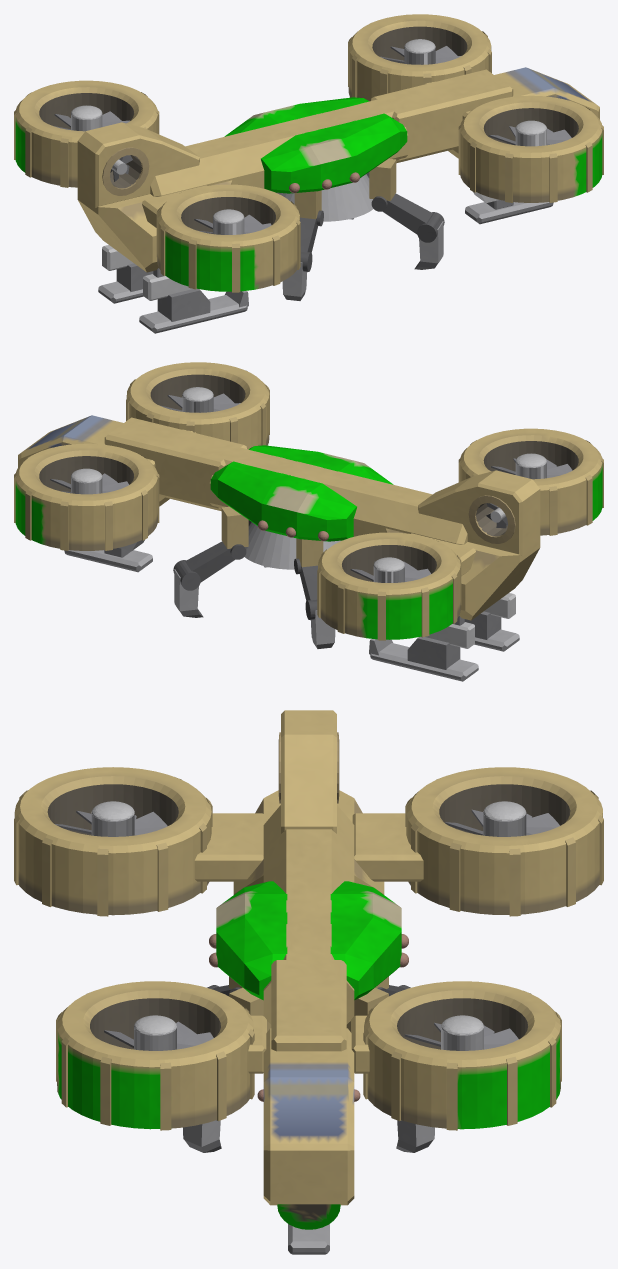
The model's file is carryall.glb.
The picture shows the model from 3 angles, top to bottom: view 1: azimuth 30°, elevation 25°; view 2: azimuth 150°, elevation 25°; view 3: azimuth 270°, elevation 25°; orthographic projection. The views are drawn at different scales.
Visible parts, largest first — view 1: pod, spine, spine_front, tail_block, cab, hoist_bell, pod_2, skid, leg, nose_pad, claw_arm_2, claw_bracket_2 (+42 smaller); view 2: pod_2, spine, spine_front, tail_block, cab, hoist_bell, pod, skid_2, leg_2, nose_pad, claw_arm_4, claw_bracket_4 (+41 smaller); view 3: cab, spine, spine_front, pod_2, pod, rear_arm_2, rear_arm, fin, tail_block, engine, fin_2, fan_rim_121 (+63 smaller).
Boxes of the visible parts, x1,y1,x2,y2 form: pod: [261, 113, 407, 193]; spine: [150, 99, 408, 196]; spine_front: [371, 69, 513, 162]; tail_block: [77, 180, 232, 272]; cab: [494, 67, 599, 119]; hoist_bell: [276, 174, 373, 221]; pod_2: [224, 97, 369, 136]; skid: [139, 295, 247, 333]; leg: [157, 288, 210, 321]; nose_pad: [465, 202, 553, 224]; claw_arm_2: [382, 193, 432, 234]; claw_bracket_2: [369, 158, 396, 200]; pod_2: [210, 461, 356, 541]; spine: [209, 447, 467, 544]; spine_front: [104, 417, 246, 510]; tail_block: [385, 528, 540, 620]; cab: [18, 415, 123, 467]; hoist_bell: [244, 522, 341, 569]; pod: [248, 445, 393, 484]; skid_2: [370, 643, 478, 681]; leg_2: [407, 636, 460, 669]; nose_pad: [64, 550, 152, 572]; claw_arm_4: [185, 541, 235, 582]; claw_bracket_4: [221, 506, 248, 548]; cab: [263, 1028, 354, 1205]; spine: [263, 805, 354, 1024]; spine_front: [271, 960, 346, 1051]; pod_2: [330, 881, 401, 1000]; pod: [216, 881, 287, 1000]; rear_arm_2: [352, 813, 423, 881]; rear_arm: [194, 813, 265, 881]; fin: [281, 771, 336, 813]; tail_block: [233, 790, 384, 894]; engine: [277, 1204, 340, 1229]; fin_2: [281, 749, 336, 771]; fan_rim_121: [473, 1049, 492, 1128].
Bounding box in the file's own units: 1.7 × 0.6017 × 1.26.
